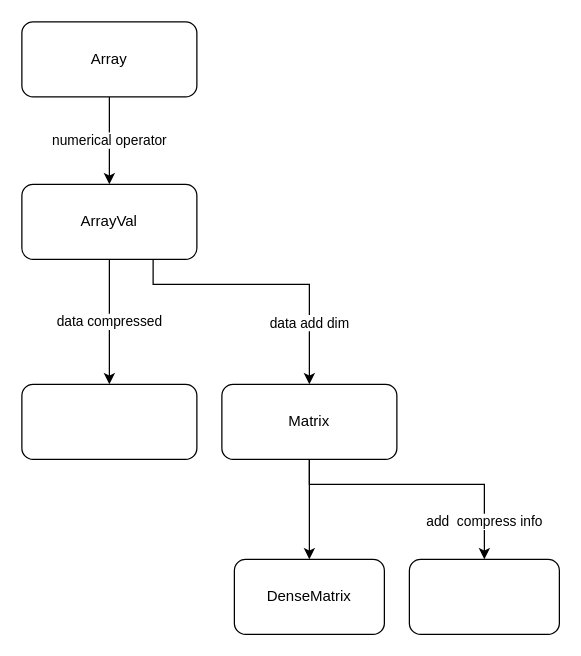
The diagram is 581 pixels wide and 656 high, and some of its shapes have lost their labels. The shapes that lost their labels are listed below. From the top down, each one's centre as x and y in pixels, then its label:
(109,421): ArrayCompressed
(483,596): Compressed Matrix
